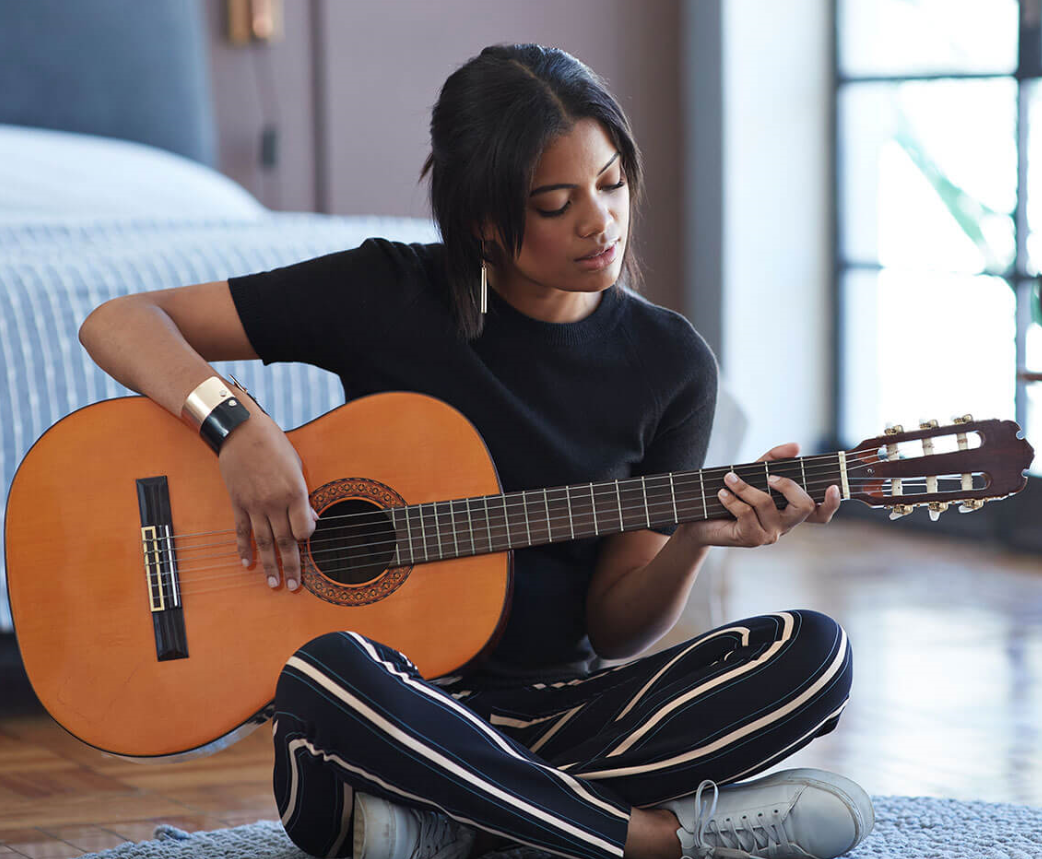fretboard: (389, 452, 839, 568)
